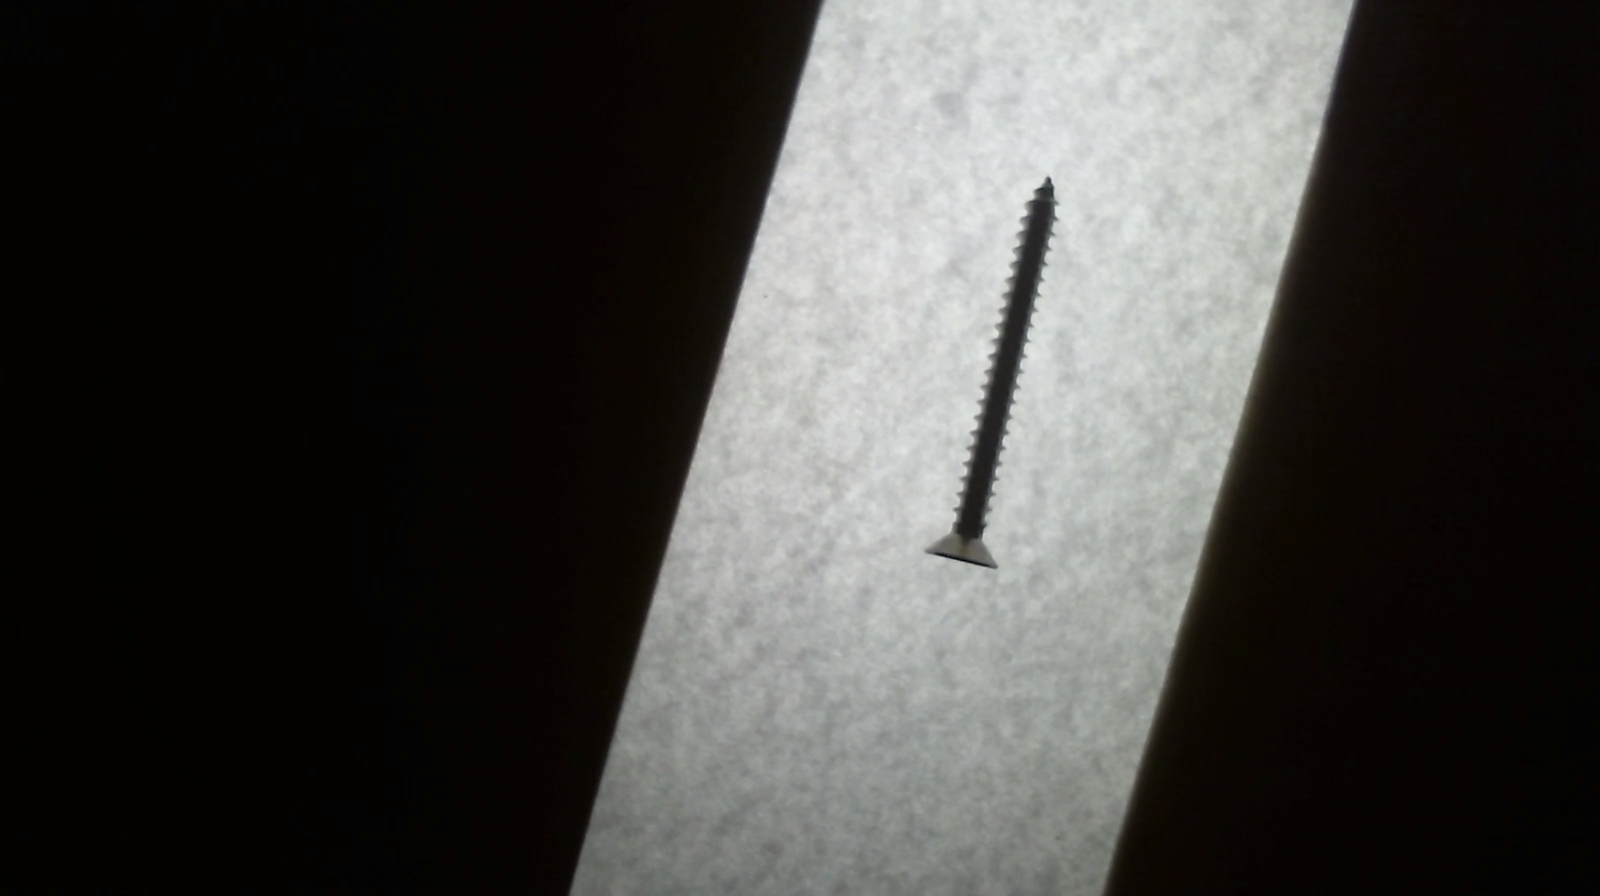S002: (916, 177, 1071, 577)
